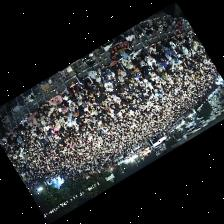person: (73, 69, 93, 88), (142, 49, 157, 66), (140, 60, 154, 75), (67, 81, 79, 97), (108, 60, 121, 74), (37, 102, 50, 115), (49, 94, 62, 106), (162, 45, 175, 57), (79, 86, 90, 100), (130, 50, 141, 64), (170, 40, 181, 53), (115, 66, 125, 80), (27, 114, 36, 129), (121, 55, 132, 67), (89, 68, 100, 80), (63, 98, 74, 110), (125, 65, 136, 76), (70, 94, 82, 104), (40, 115, 49, 128), (90, 84, 99, 97), (107, 68, 115, 82), (160, 37, 171, 47), (103, 79, 113, 90), (119, 82, 128, 94), (147, 42, 156, 54), (14, 122, 23, 134), (95, 95, 105, 105), (101, 65, 108, 79), (37, 117, 44, 130), (93, 77, 103, 86), (156, 42, 164, 53), (49, 105, 57, 116), (98, 85, 106, 96), (49, 114, 58, 123), (60, 89, 68, 99), (182, 31, 190, 41), (51, 124, 58, 135), (115, 77, 123, 86), (176, 33, 185, 41), (8, 126, 16, 135), (22, 116, 28, 128), (112, 94, 120, 102), (20, 129, 26, 139), (58, 116, 64, 126), (58, 107, 66, 114), (6, 131, 13, 139), (1, 135, 6, 145)
